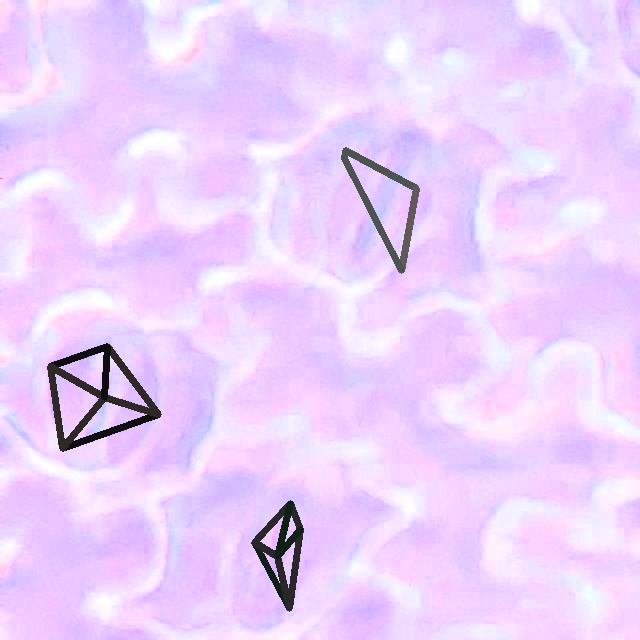open: (48, 343, 160, 451), (342, 147, 418, 272), (251, 500, 303, 611)
